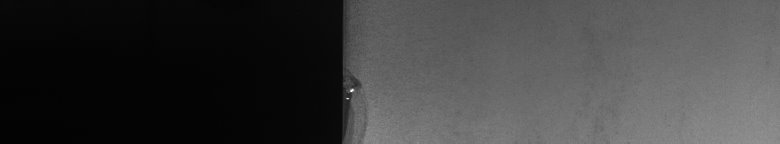hb: (352, 71, 371, 136)
